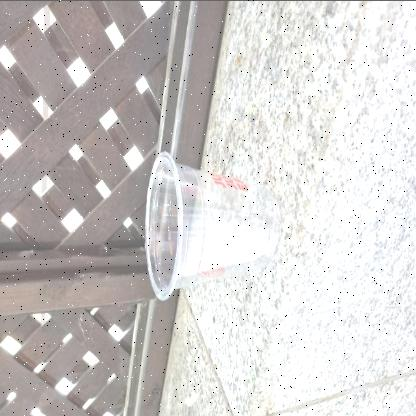Others: (145, 151, 283, 297)
